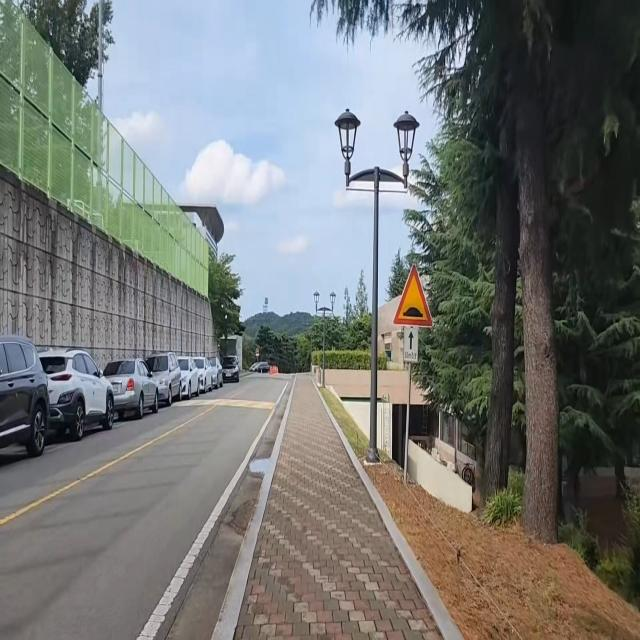obstacle: (331, 104, 422, 464), (40, 348, 246, 447), (0, 330, 52, 469)
road: (0, 375, 294, 640)
sidewalk: (216, 372, 475, 640)
